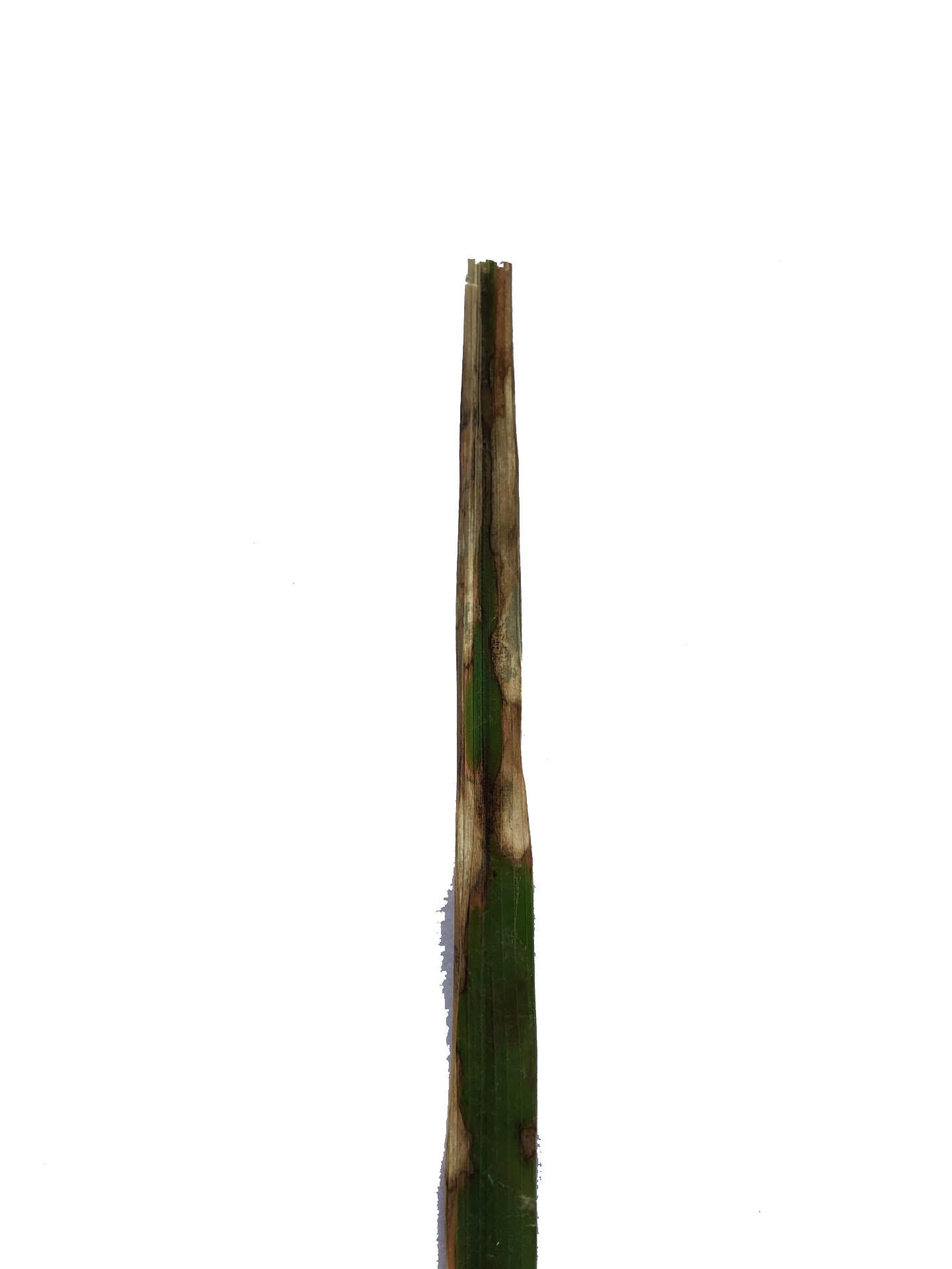Blight: (440, 251, 545, 872)
